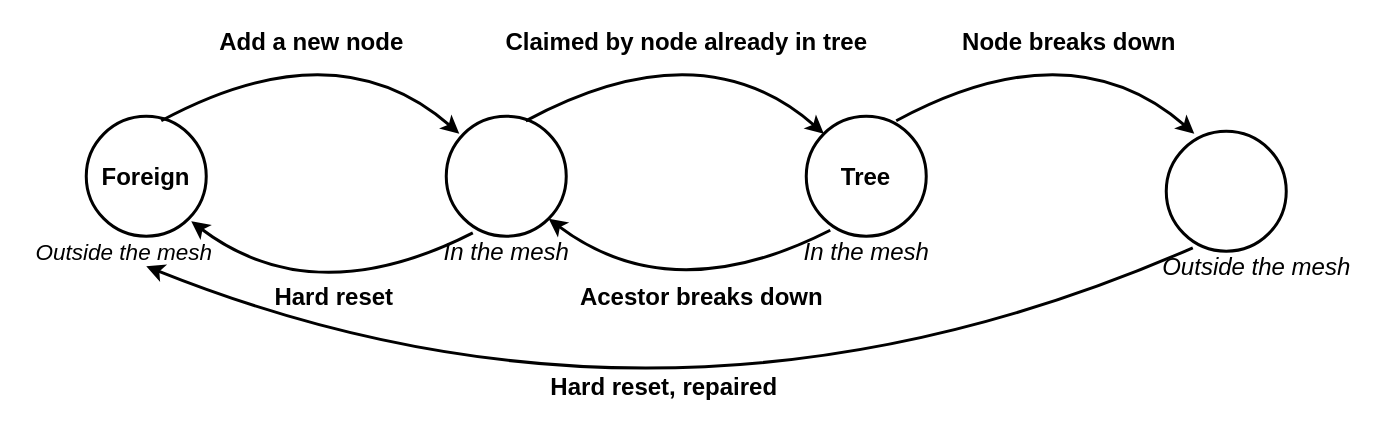
The diagram is 1386 pixels wide and 426 high, and some of its shapes have lost their labels. The centre of each missing label's shape, as x and y in pixels:
"Dead" belongs at [1225,190].
"Idle" belongs at [505,175].
